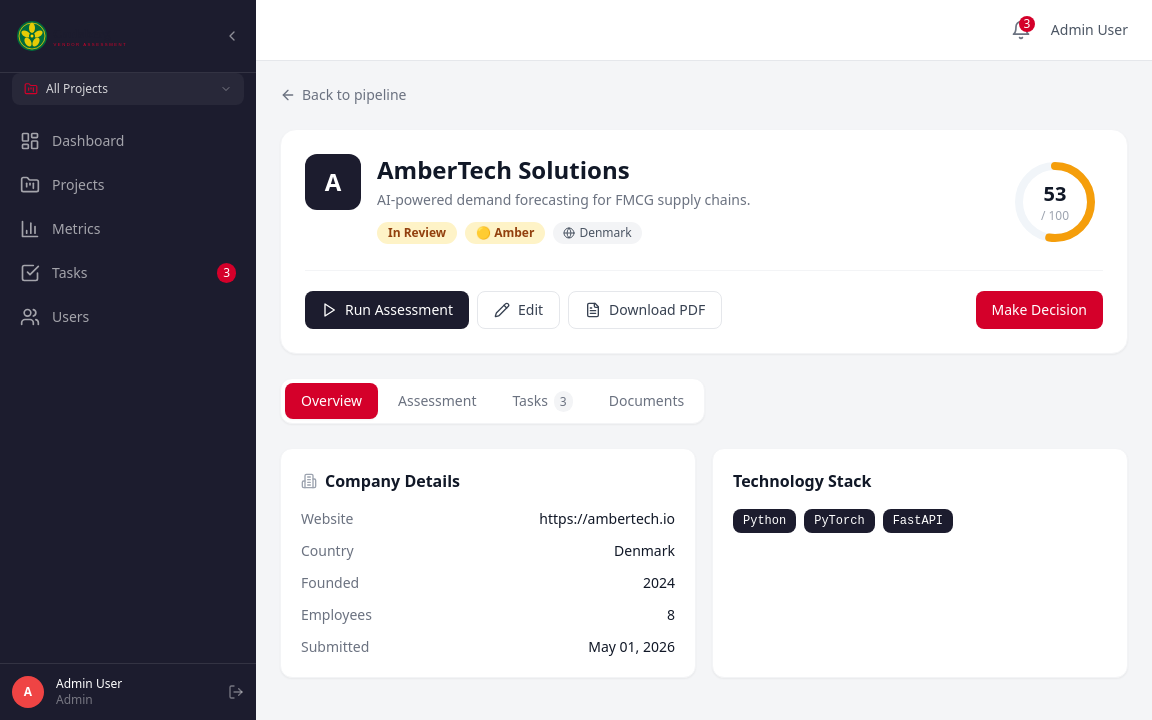
it: VendorDetailPage › switches to Documents tab and shows uploaded files
Check: the heading "AmberTech Solutions" is shown, box [377,153,630,186]
Click the button "Documents" at (646, 401), box [593,383,700,419]
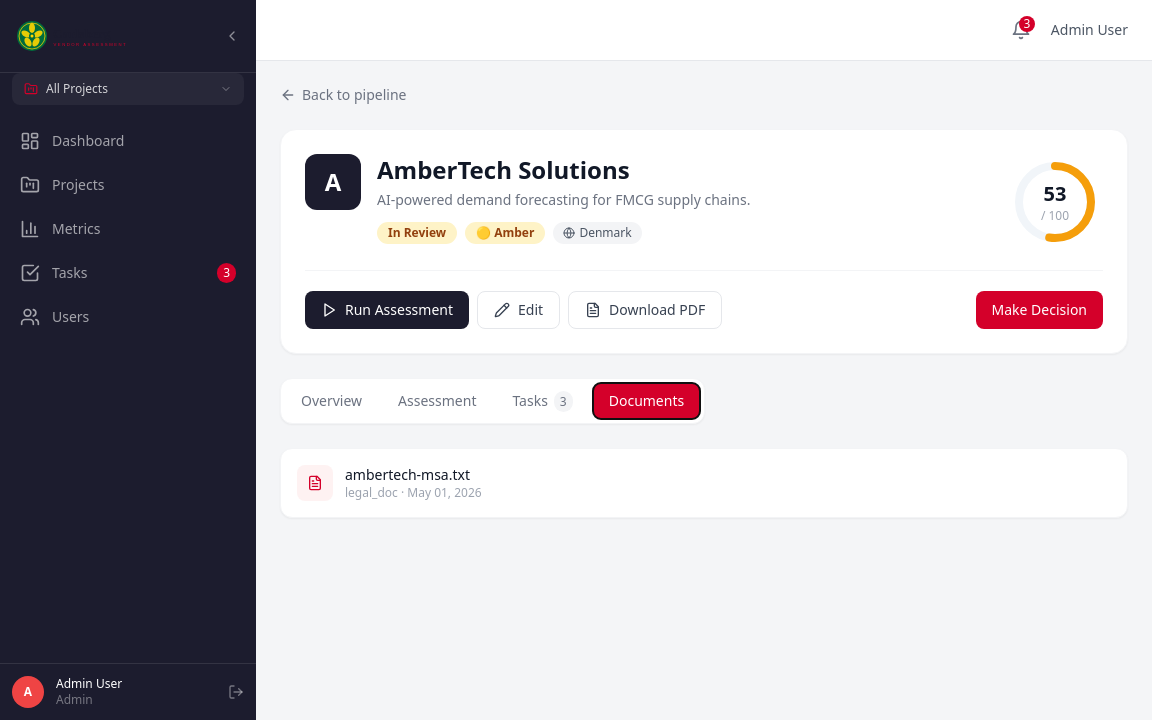
Check: the text "ambertech-msa.txt" is shown, box [345,465,482,485]
Check: the text "legal_doc · May 01, 2026" is shown, box [345,485,482,501]
